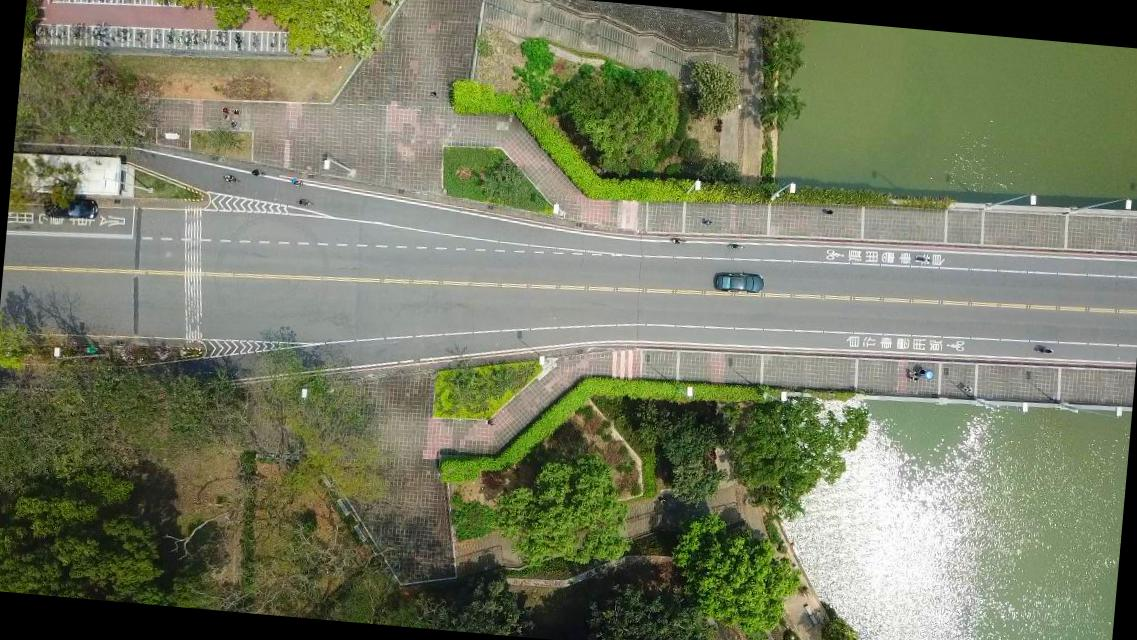vehicle: (42, 196, 98, 222), (712, 270, 763, 296)
